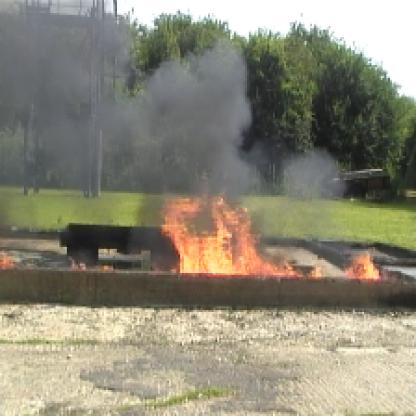Fire: (149, 188, 321, 276), (344, 247, 384, 280)
Smoke: (2, 10, 256, 190)
